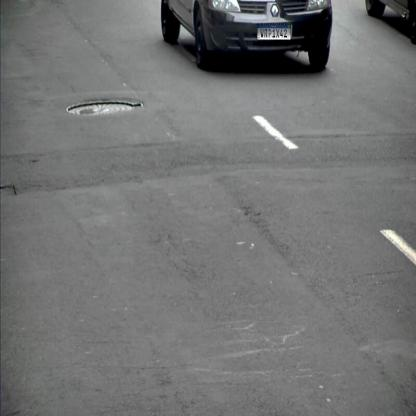PlacaM: (257, 24, 291, 40)
